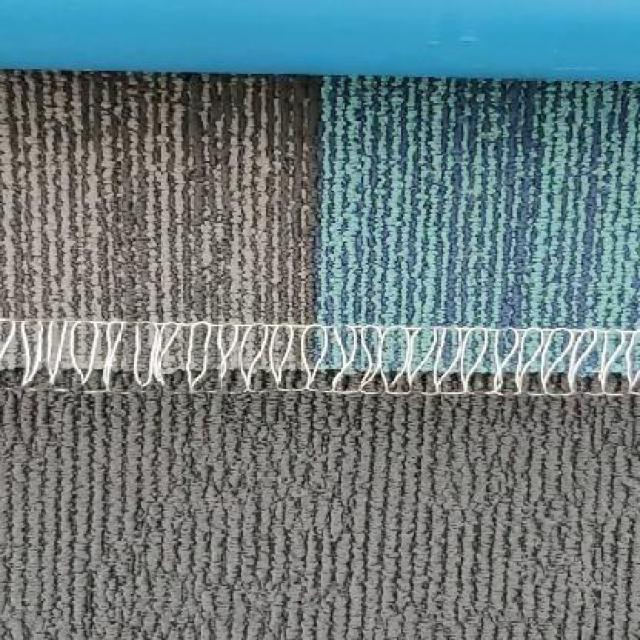gray stitch: (2, 310, 638, 404)
